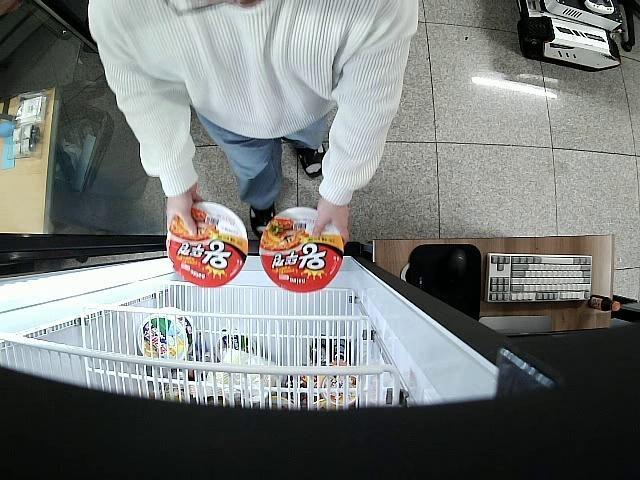10_wangTtukkeong: (259, 207, 345, 294), (167, 203, 248, 287)
